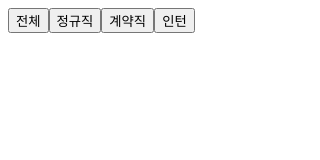
Scenario: hire filters › toggles a hire type on and off
Later steps or results of the test are not shown.
Click the button "정규직" at (75, 20), box [48,8,101,33]
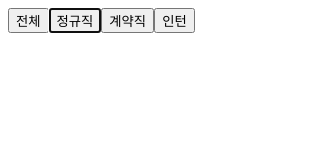
Result: the button "정규직" is pressed at [48,8,101,33]
Result: the button "전체" is not pressed at [8,8,48,33]
